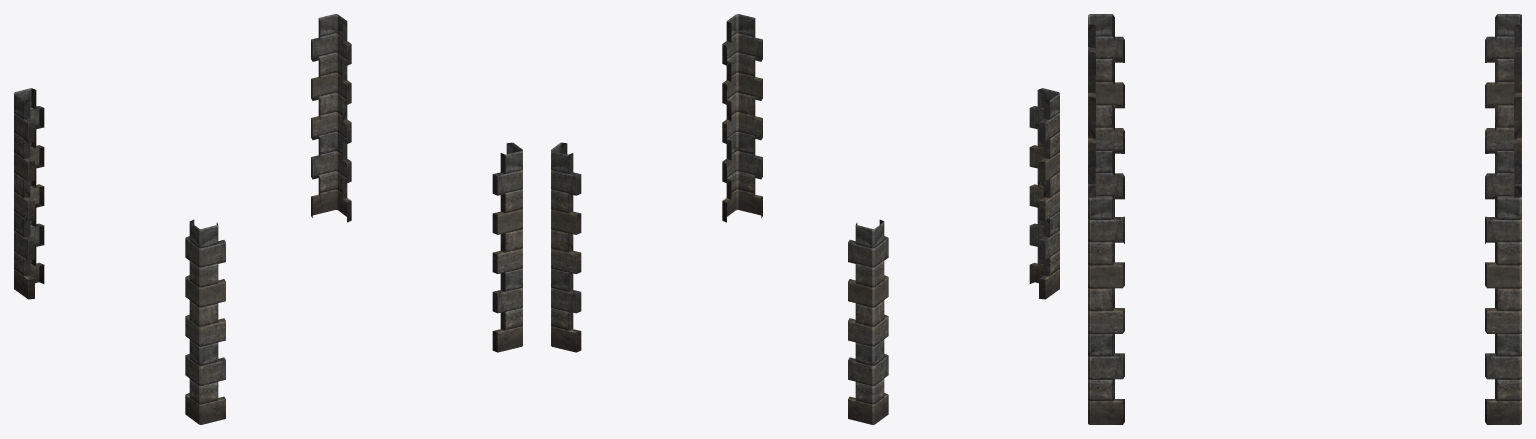
File: SC_yonghengsenlin_10.FBX
3 views of the same model, side by side, from view 1: azimuth 30°, elevation 25°; view 2: azimuth 150°, elevation 25°; view 3: azimuth 270°, elevation 25° (orthographic). The views are drawn at different scales.
Parts seen in each view (by area): view 1: SC_yonghengsenlin_10; view 2: SC_yonghengsenlin_10; view 3: SC_yonghengsenlin_10.
Boxes of the visible parts, bbox=[...] form: SC_yonghengsenlin_10: bbox=[14, 14, 522, 424]; SC_yonghengsenlin_10: bbox=[551, 14, 1059, 424]; SC_yonghengsenlin_10: bbox=[1088, 14, 1521, 424].
Bounding box in the file's own units: 497 × 288 × 497.
